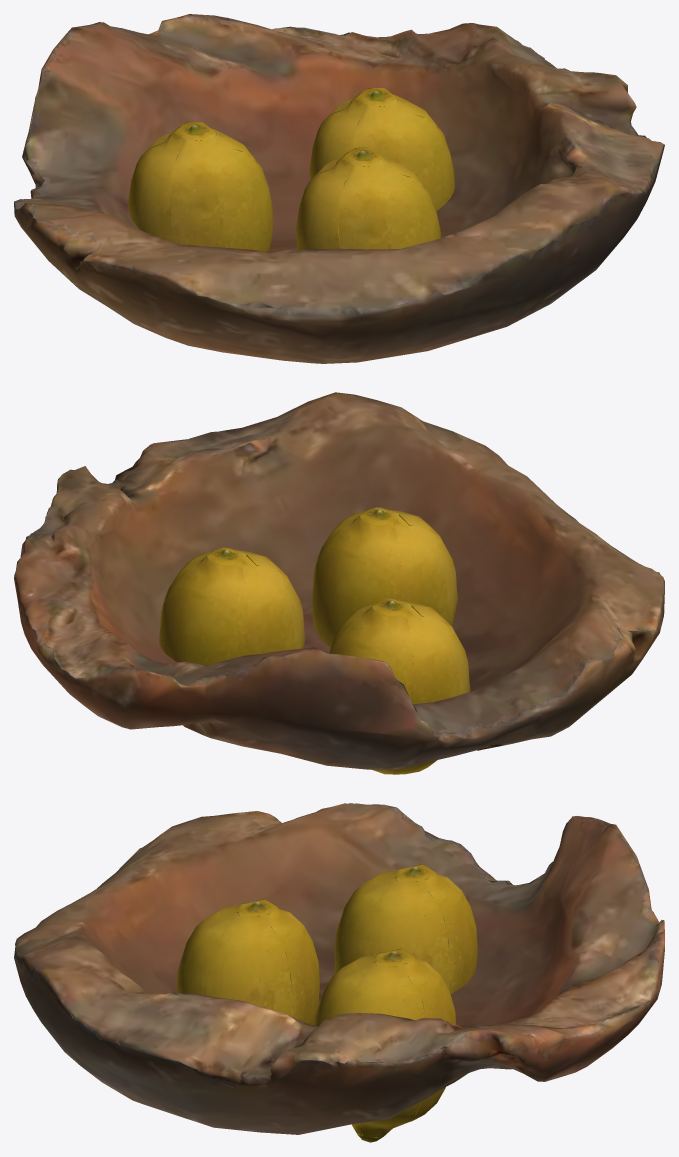
Rendered from fruit-bowl-balanced-9d8652dca2.glb.
The picture shows the model from 3 angles, top to bottom: view 1: azimuth 30°, elevation 25°; view 2: azimuth 150°, elevation 25°; view 3: azimuth 270°, elevation 25°; orthographic projection. The views are drawn at different scales.
Parts seen in each view (by area): view 1: wooden_bowl_01; view 2: wooden_bowl_01; view 3: wooden_bowl_01.
Part boxes in pixels (bbox=[...]): wooden_bowl_01: bbox=[14, 14, 664, 363]; wooden_bowl_01: bbox=[14, 392, 664, 774]; wooden_bowl_01: bbox=[14, 803, 664, 1142].
Size of the model in its own units: 0.3131 by 0.1118 by 0.3094.
Materials: 2 (2 with a texture image).
